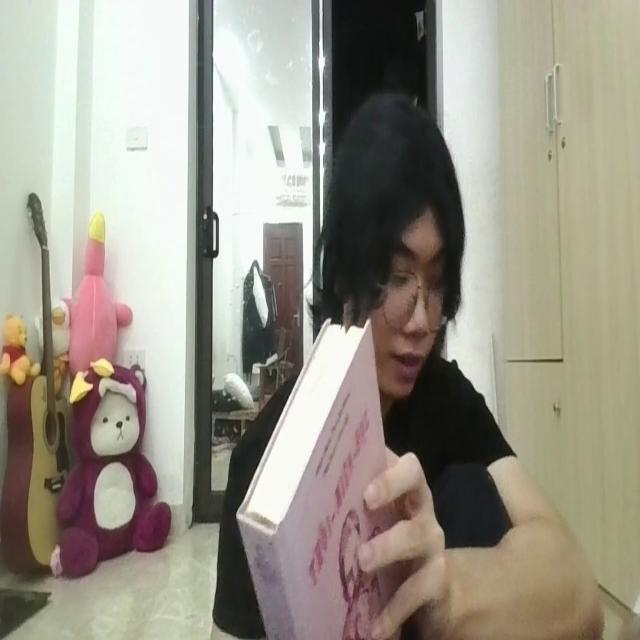book: (237, 317, 401, 640)
student: (208, 90, 602, 640)
